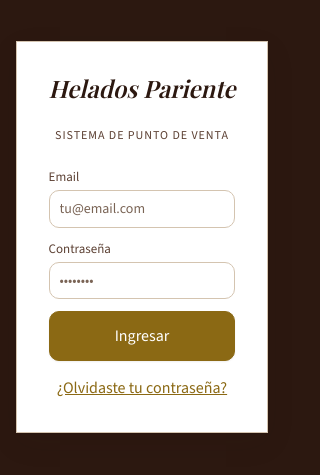
Test: LoginPage › muestra error cuando signIn falla
Type "a@b.com" into the field with placeholder "tu@email.com" at (142,209), box [48, 190, 235, 228]
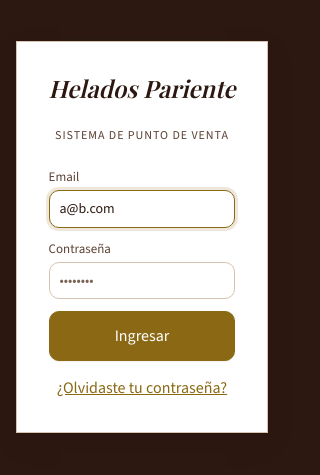
Type "mala" into the password field with placeholder "••••••••" at (142,281), box [48, 262, 235, 299]
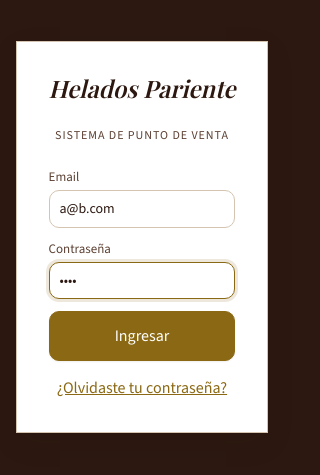
Submit the form "Ingresar", box [48, 168, 235, 400]
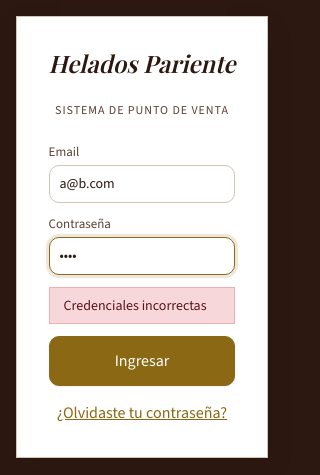
Result: the text "Credenciales incorrectas" is shown at [48, 287, 235, 324]
